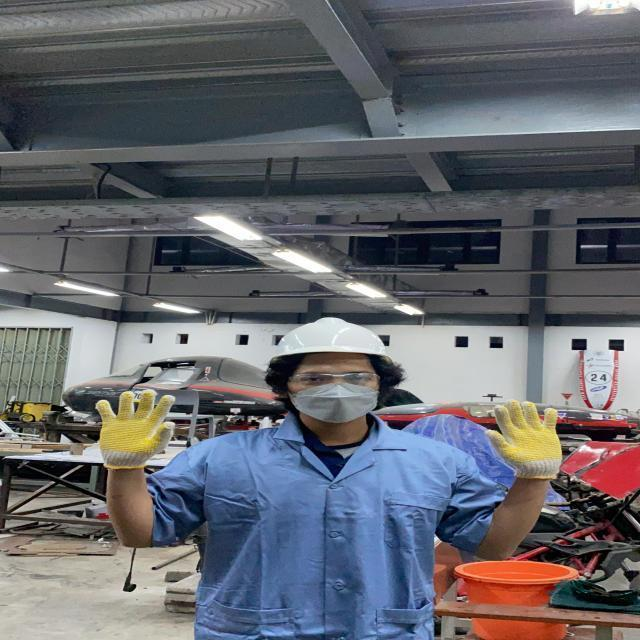helmet: (260, 310, 398, 366)
person: (136, 322, 540, 640)
